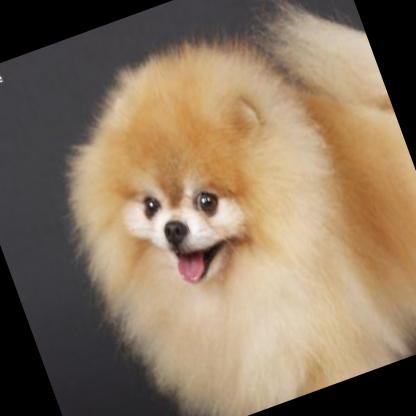Pomeranian: (20, 0, 416, 416)
